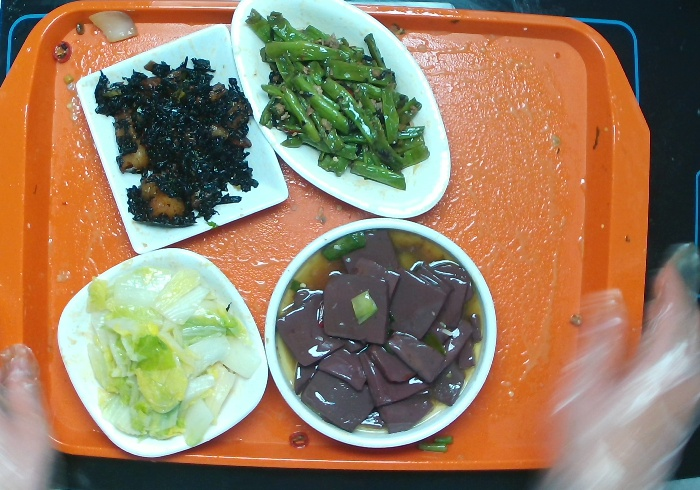HZYJPL-Si_Fang_Die: (73, 19, 292, 258)
HZYJPL-Si_Fang_Yuan_Die: (52, 245, 272, 463)
HZYJPL-Xiao_Yu_Die: (227, 1, 457, 223)
HZYJPL-Xiao_Yuan_Die: (259, 213, 501, 456)
